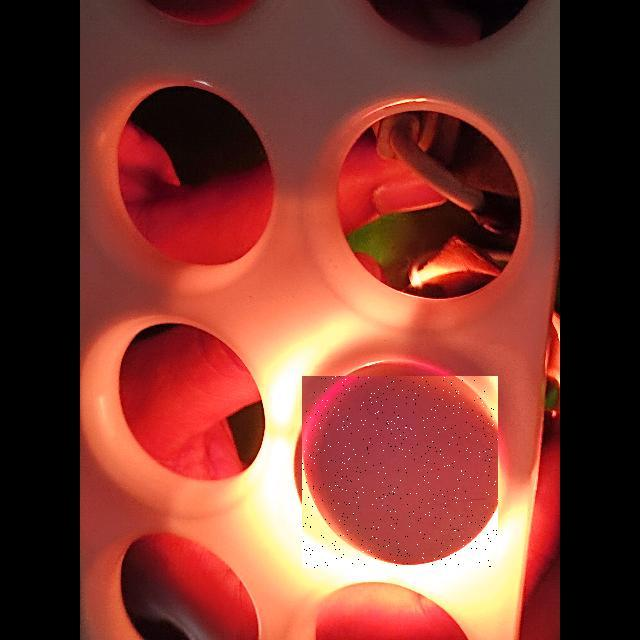Fertile: (302, 376, 498, 568)
